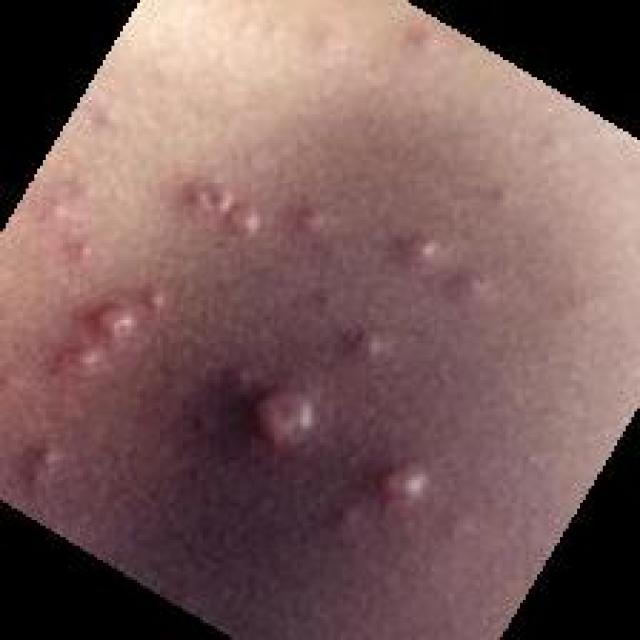others: (34, 0, 579, 631)
